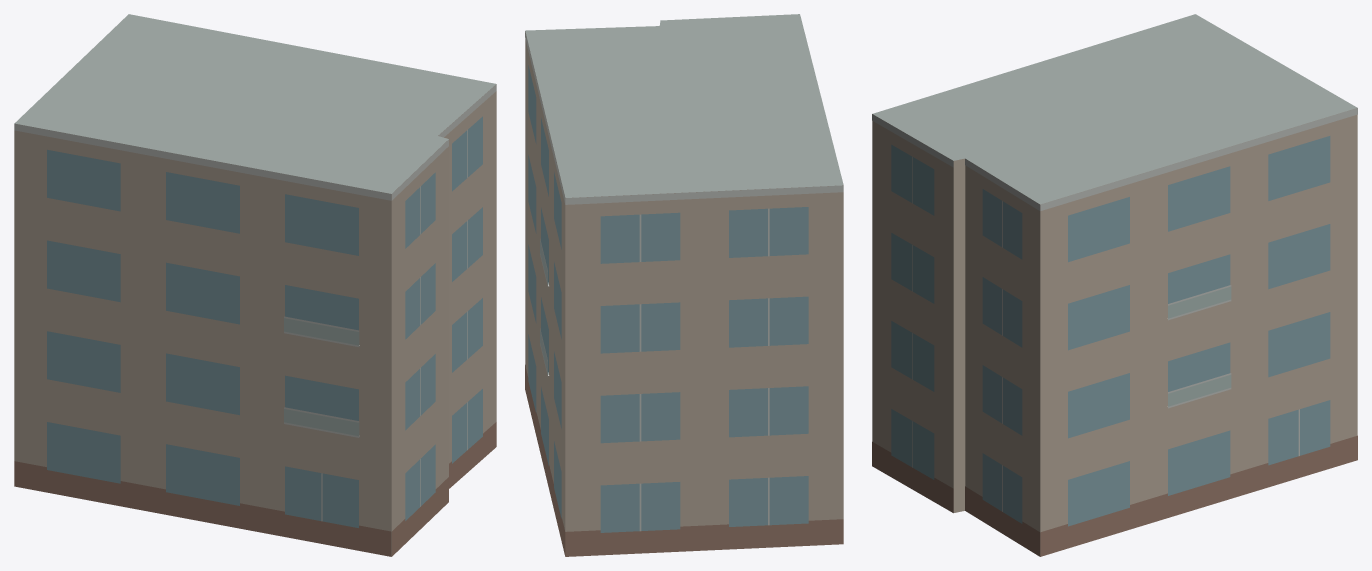
The model's file is survey-upis-32671333.glb.
The picture shows the model from 3 angles, left to right: view 1: azimuth 30°, elevation 25°; view 2: azimuth 150°, elevation 25°; view 3: azimuth 270°, elevation 25°; orthographic projection. The views are drawn at different scales.
Parts seen in each view (by area): view 1: survey-upis-32671333.tmp; view 2: survey-upis-32671333.tmp; view 3: survey-upis-32671333.tmp.
Boxes of the visible parts, x1,y1,x2,y2 form: survey-upis-32671333.tmp: (14, 14, 496, 556); survey-upis-32671333.tmp: (525, 14, 843, 556); survey-upis-32671333.tmp: (872, 14, 1357, 556).
Bounding box in the file's own units: 14.86 × 12.8 × 16.
